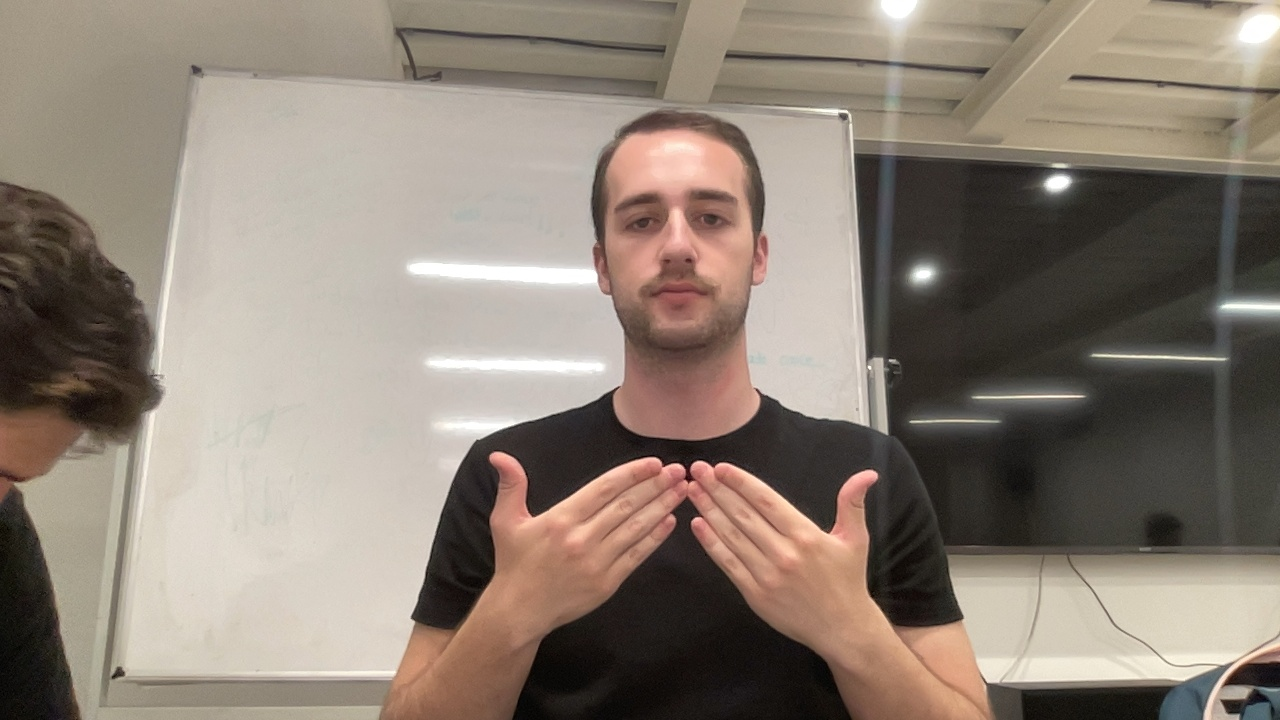Thank You: (482, 439, 883, 664)
